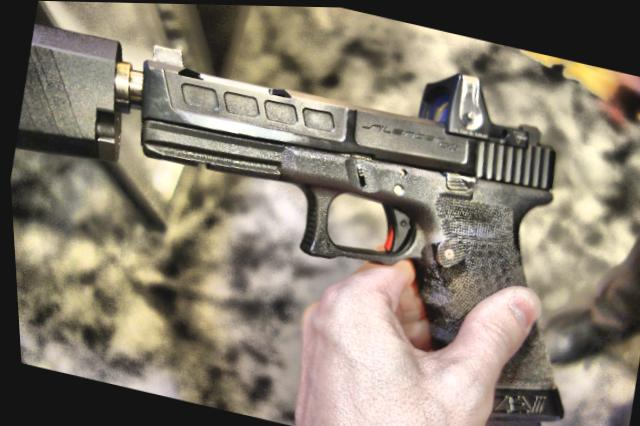pistol: (60, 1, 626, 426)
